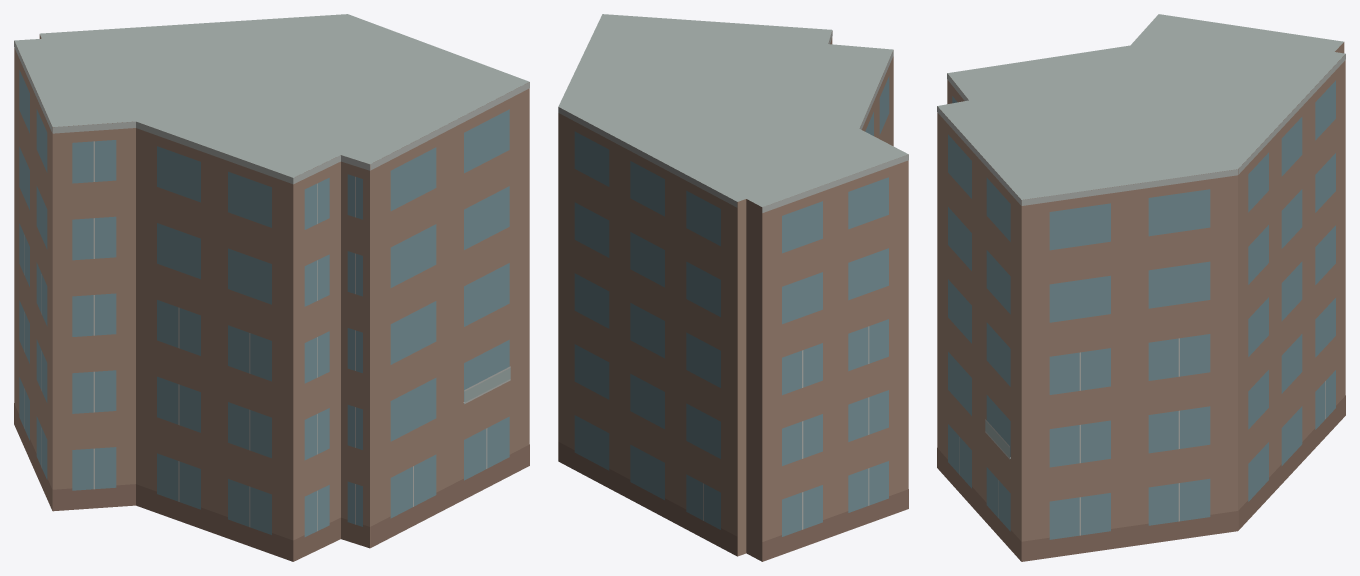
Rendered from survey-upis-33032824.glb.
3 views of the same model, side by side, from view 1: azimuth 30°, elevation 25°; view 2: azimuth 150°, elevation 25°; view 3: azimuth 270°, elevation 25° (orthographic). The views are drawn at different scales.
Parts seen in each view (by area): view 1: survey-upis-33032824.tmp; view 2: survey-upis-33032824.tmp; view 3: survey-upis-33032824.tmp.
Part boxes in pixels (x1,y1,x2,y2): survey-upis-33032824.tmp: [14, 14, 529, 561]; survey-upis-33032824.tmp: [558, 14, 908, 561]; survey-upis-33032824.tmp: [937, 14, 1345, 561].
Bounding box in the file's own units: 15.99 × 14.5 × 14.84.
